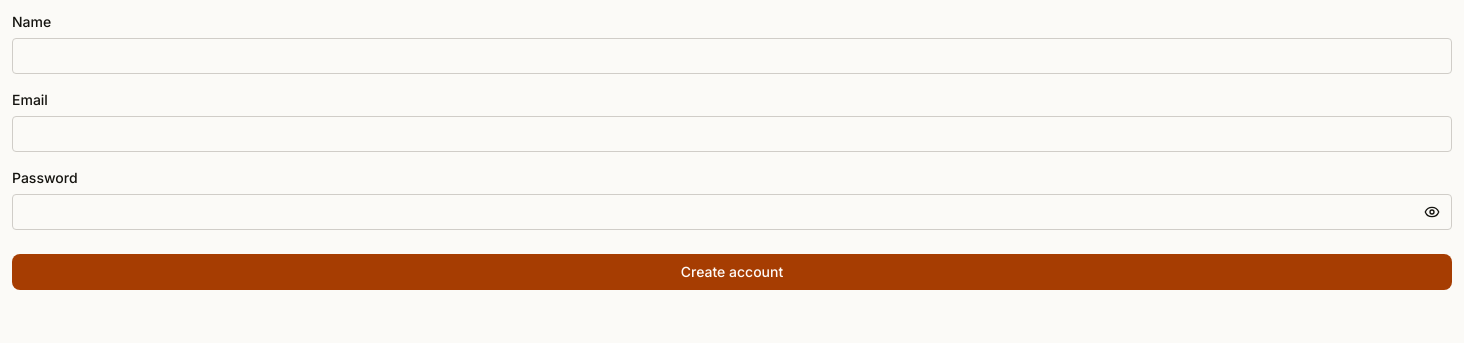
Test case: SignUpForm › shows a human error for an existing account, marking only the email field
In the field labelled "Name": (732, 56) [12,38,1452,74], type "Dor Shaul"
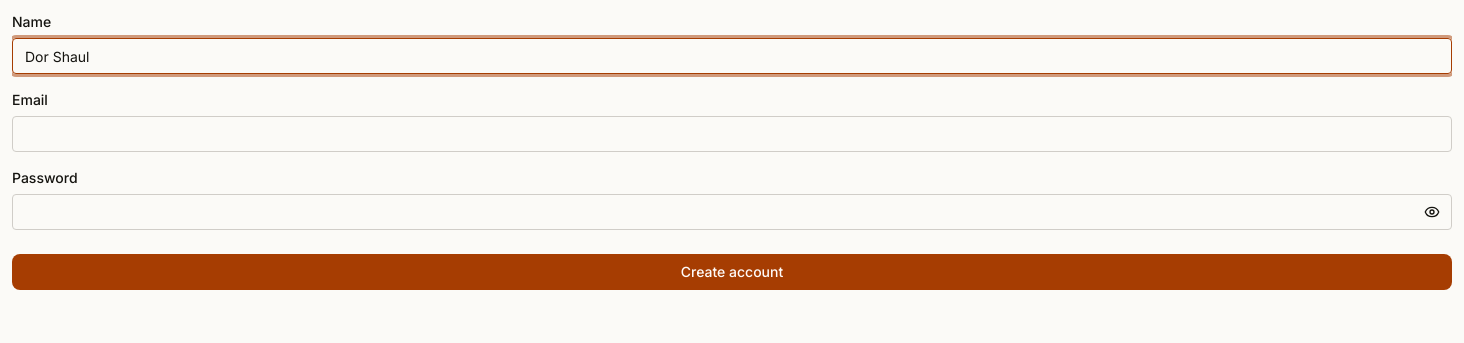
In the field labelled "Email": (732, 134) [12,116,1452,152], type "dor@example.com"
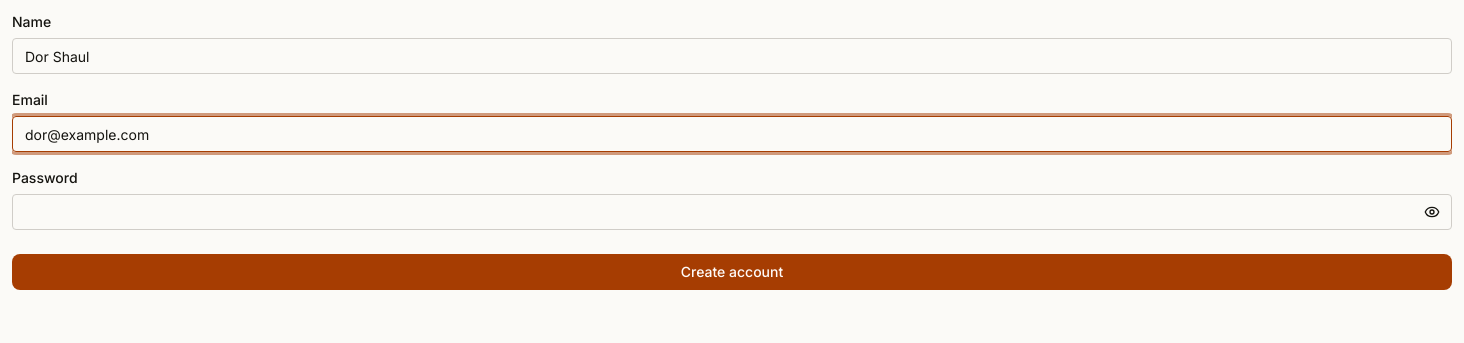
In the password field labelled "Password": (732, 212) [12,194,1452,230], type "correct horse battery staple"
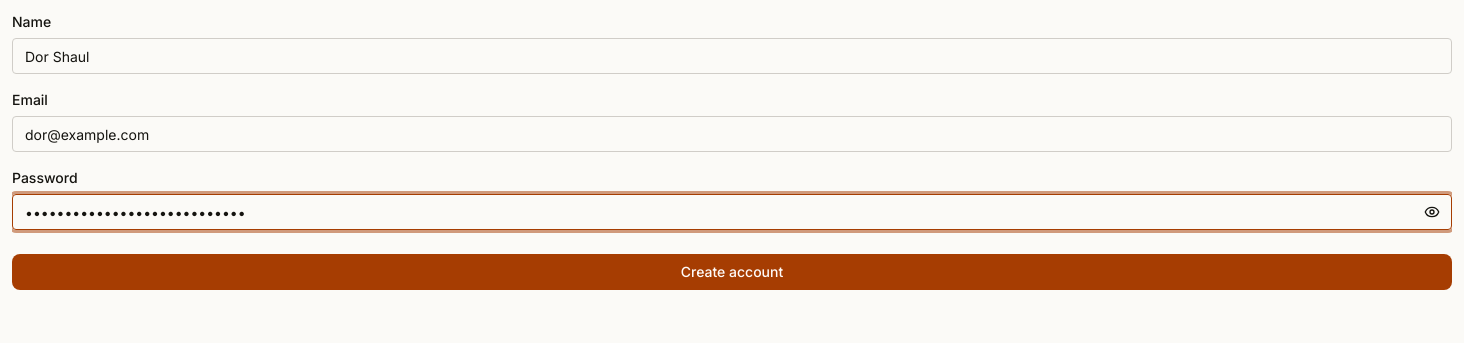
Click the button "Create account": (732, 272) [12,254,1452,290]
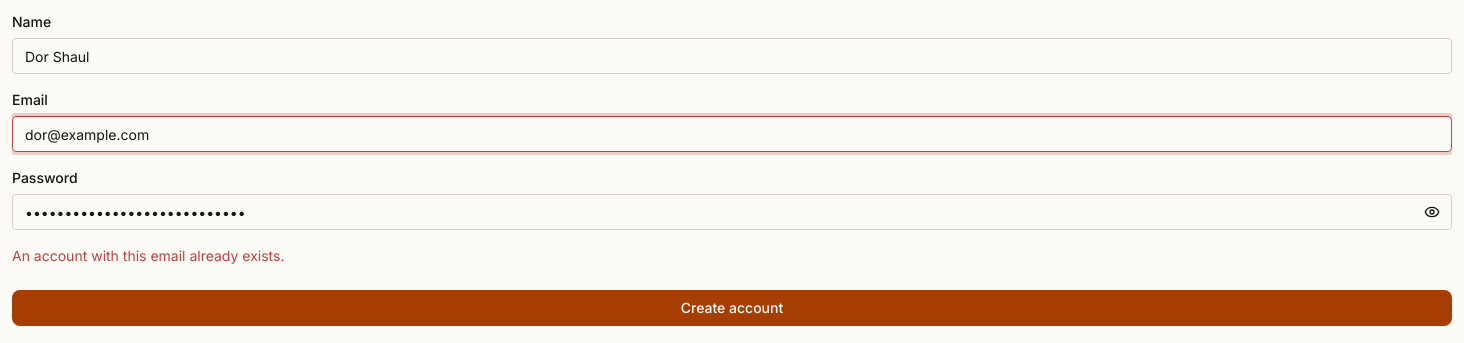
Now the text "An account with this email already exists." is shown, box [12,247,284,264]
